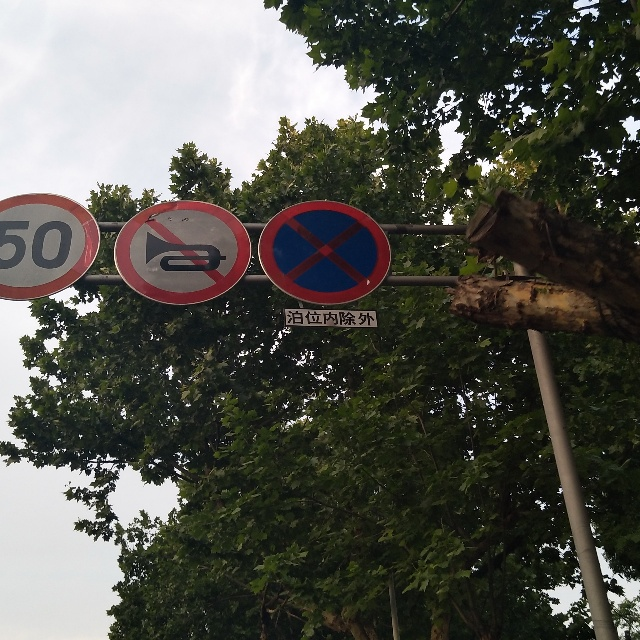nohonk: (126, 213, 241, 294)
stop: (269, 207, 380, 294)
